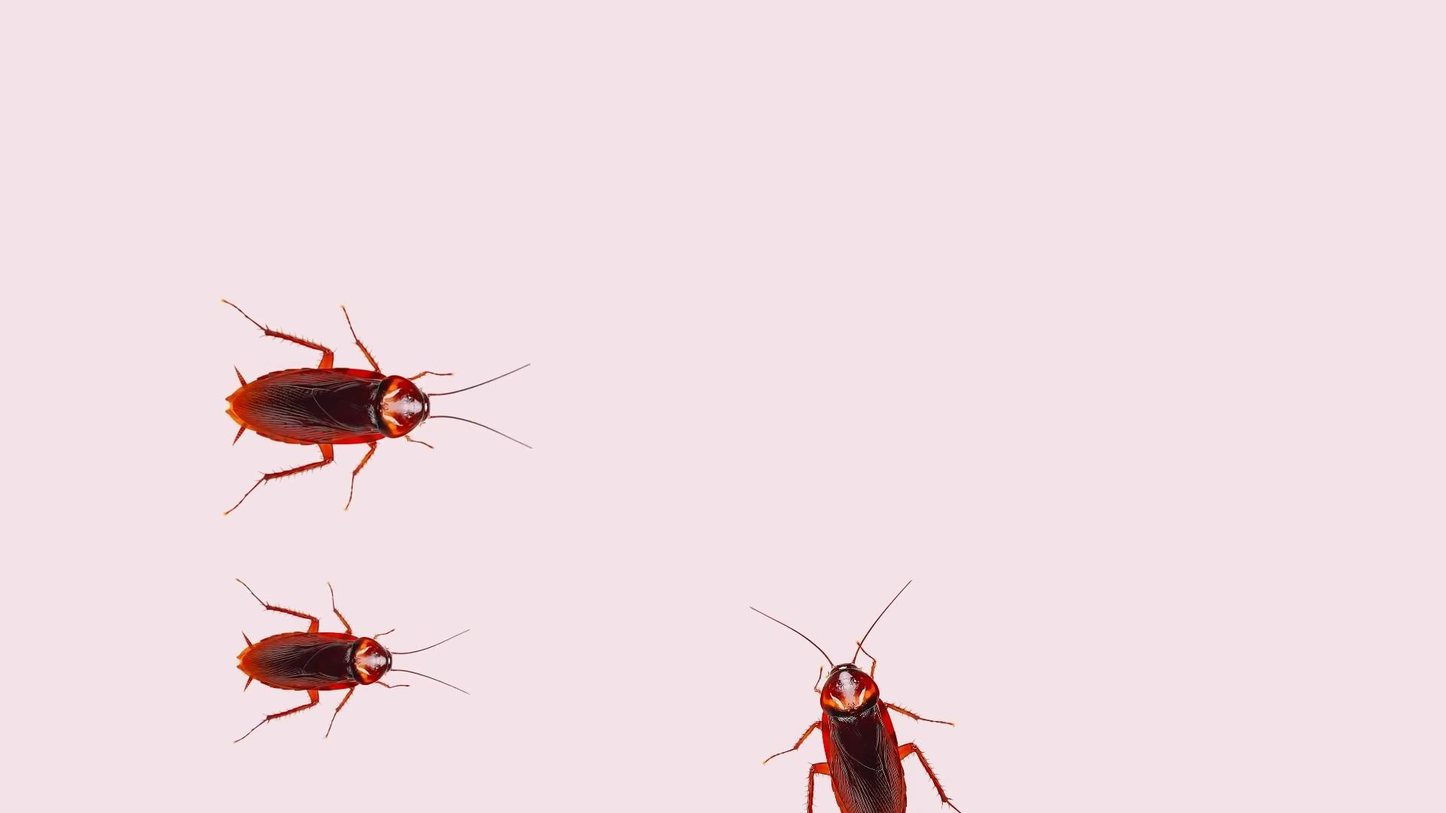cockroach: (187, 274, 513, 524), (729, 578, 984, 813), (194, 555, 498, 738)
